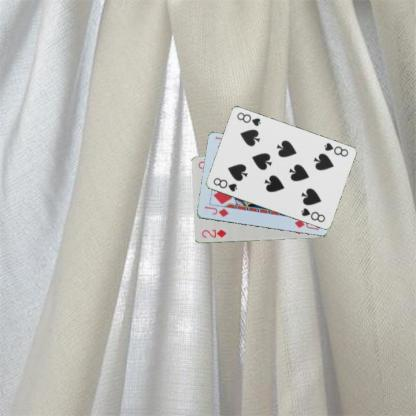2d: (199, 227, 228, 239)
8s: (210, 175, 238, 193), (321, 140, 349, 158)
Jd: (202, 204, 229, 218)
